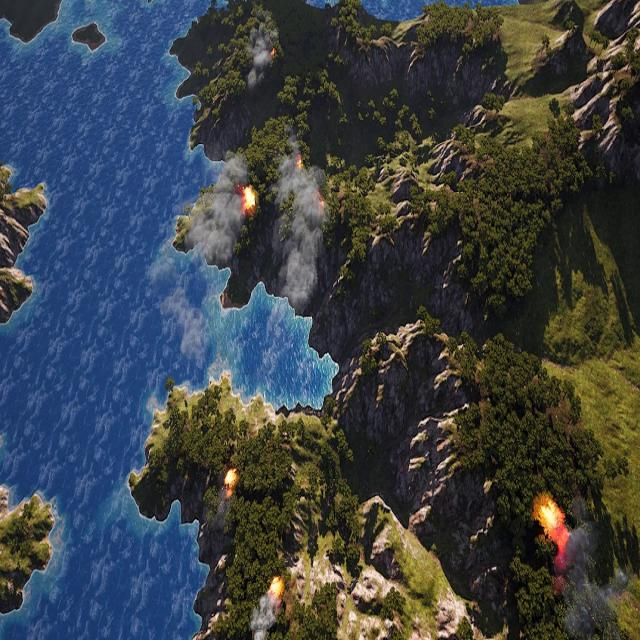fire: (538, 498, 568, 544), (242, 185, 256, 213), (270, 579, 284, 599), (224, 468, 236, 488)
smoke: (148, 148, 248, 376), (551, 496, 630, 639), (274, 130, 327, 322), (247, 30, 275, 95), (250, 589, 278, 640)
